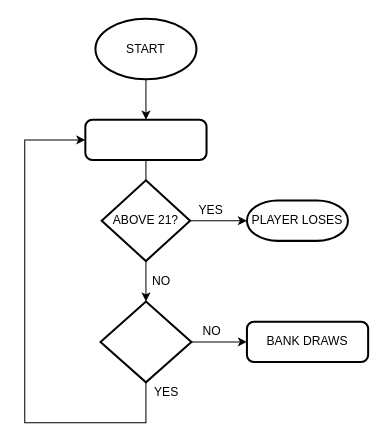
Some shapes in this 387 by 448 pixel diagram are drawn without their labels. Here are the shapes that lost their labels. From the top down, the centre of each, then its label:
At point (145, 139): "PLAYER DRAWS".
At point (145, 341): "HIT?".
